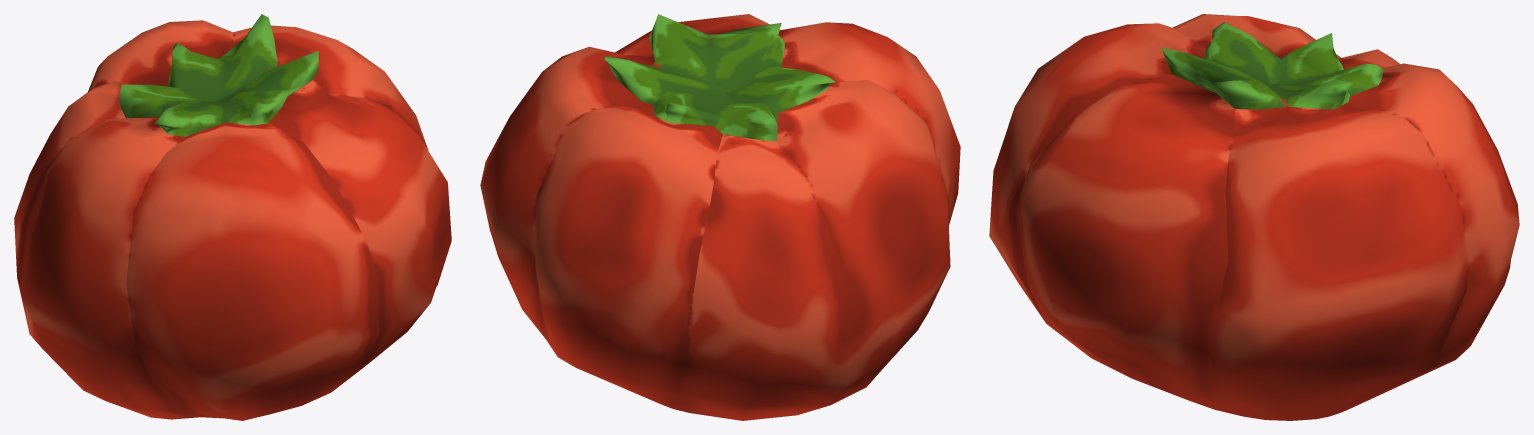
Rendered from Tomato_01.fbx.
3 renders of one model, left to right at view 1: azimuth 30°, elevation 25°; view 2: azimuth 150°, elevation 25°; view 3: azimuth 270°, elevation 25°, orthographic. The views are drawn at different scales.
Parts seen in each view (by area): view 1: Tomato_01; view 2: Tomato_01; view 3: Tomato_01.
Part boxes in pixels (x1,y1,x2,y2): Tomato_01: [14, 14, 451, 420]; Tomato_01: [480, 14, 960, 420]; Tomato_01: [989, 14, 1519, 420].
Size of the model in its own units: 40.03 by 31.8 by 42.58.
